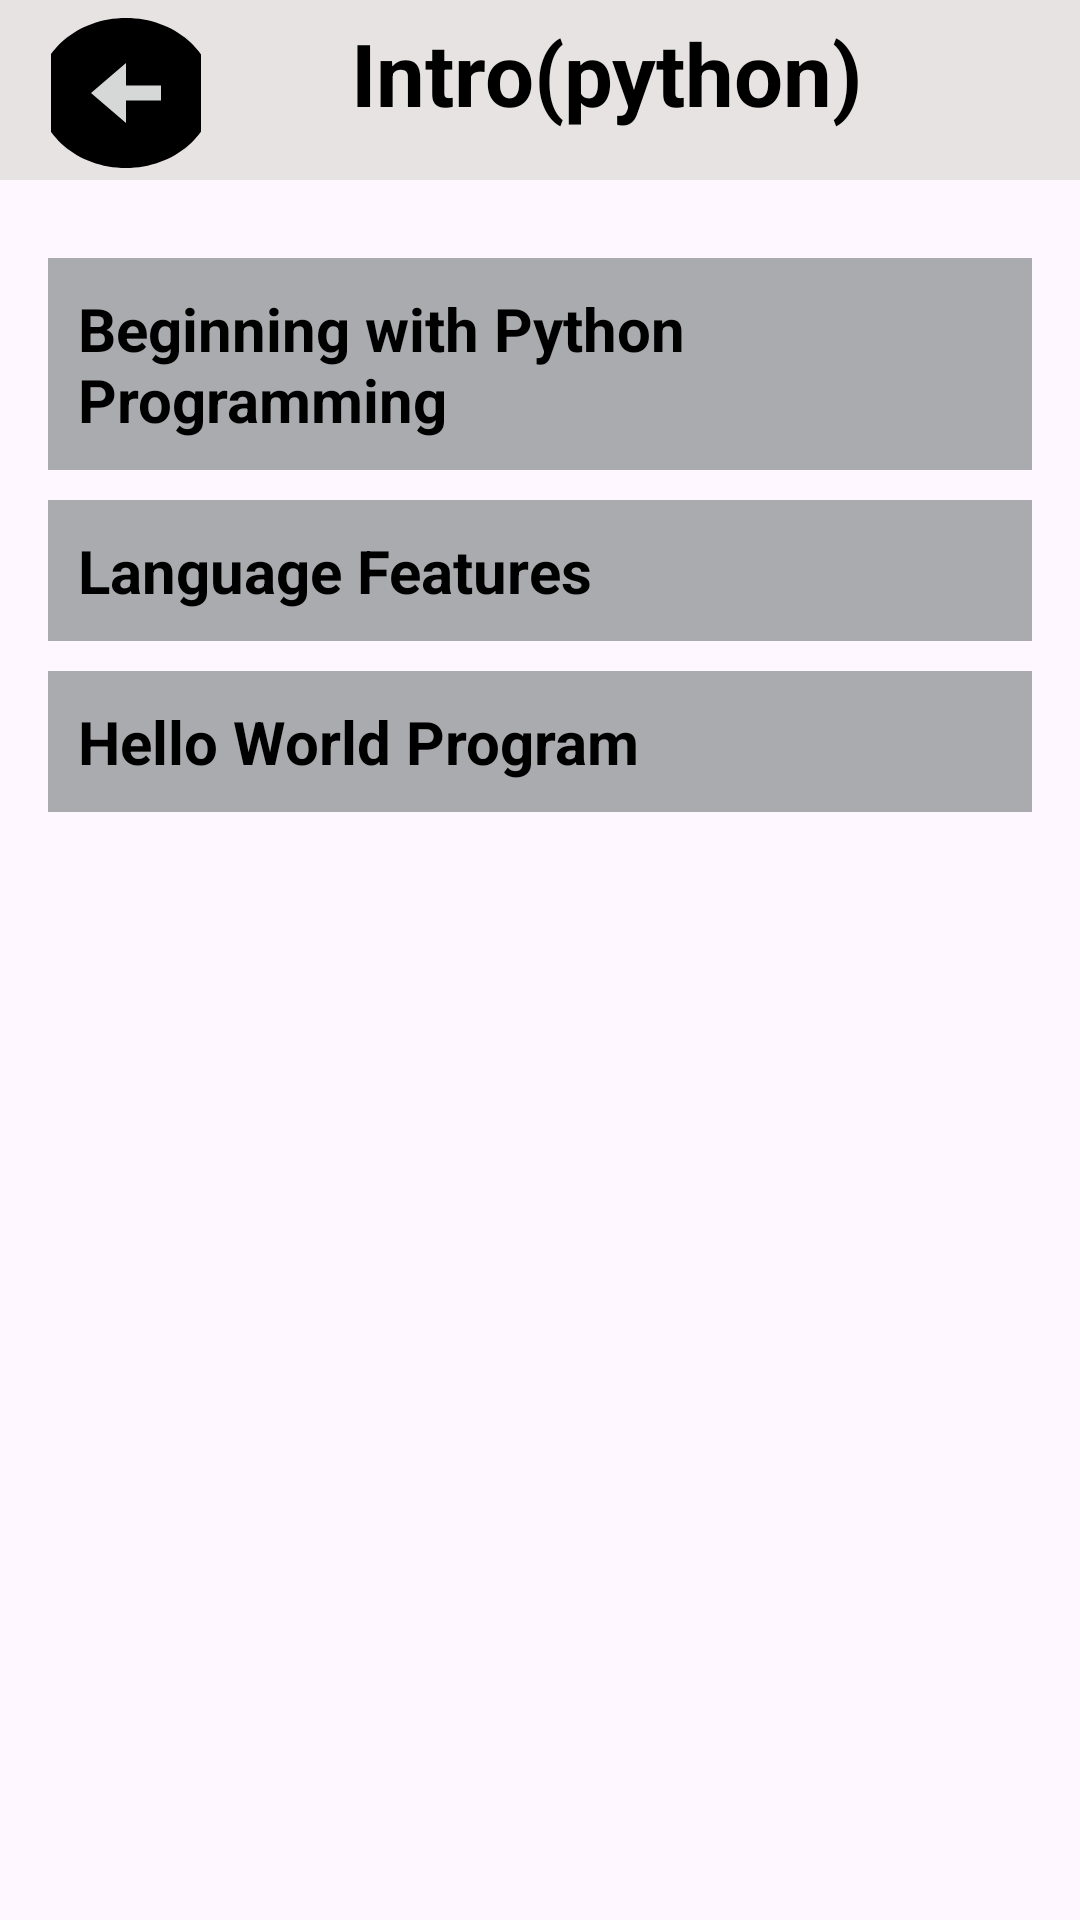

Named icons in this screenshot (1080 × 1920) and their bounding boxes, [x1=x1, y1=y1, x2=x2, y2=y2]:
arrow circle left: [x1=51, y1=18, x2=201, y2=168]
